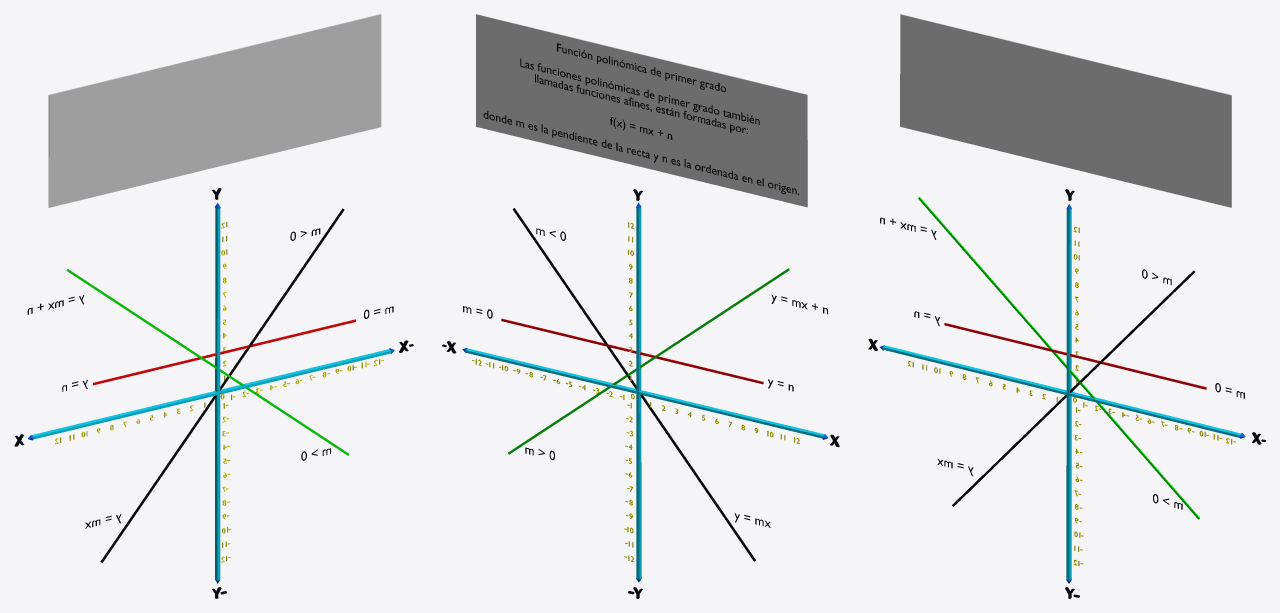
Rendered from f-polinomica-primer-grado.fbx.
3 renders of one model, left to right at view 1: azimuth 30°, elevation 25°; view 2: azimuth 150°, elevation 25°; view 3: azimuth 330°, elevation 25°, orthographic.
Visible parts, largest first — view 1: Cubo.003, Cubo.005, Cubo.006, Cube.001, Cube.002, Cube.003; view 2: Cubo.003, Text.025, Cubo.005, Cubo.006, Cube.001, Cube.002, Cube.003; view 3: Cubo.003, Cubo.005, Cubo.006, Cube.002, Cube.001, Cube.003.
Part boxes in pixels (left/top/right/bottom): Cubo.003: left=48, top=14, right=381, bottom=207; Cubo.005: left=215, top=208, right=220, bottom=580; Cubo.006: left=30, top=349, right=391, bottom=439; Cube.001: left=100, top=208, right=344, bottom=562; Cube.002: left=66, top=269, right=349, bottom=455; Cube.003: left=93, top=319, right=355, bottom=385; Cubo.003: left=476, top=14, right=807, bottom=207; Text.025: left=483, top=43, right=798, bottom=194; Cubo.005: left=636, top=208, right=641, bottom=578; Cubo.006: left=465, top=348, right=824, bottom=438; Cube.001: left=512, top=208, right=755, bottom=561; Cube.002: left=508, top=268, right=789, bottom=454; Cube.003: left=501, top=318, right=763, bottom=384; Cubo.003: left=900, top=14, right=1231, bottom=207; Cubo.005: left=1066, top=209, right=1071, bottom=580; Cubo.006: left=881, top=345, right=1240, bottom=437; Cube.002: left=918, top=197, right=1199, bottom=519; Cube.001: left=952, top=270, right=1194, bottom=506; Cube.003: left=944, top=323, right=1206, bottom=389.
Bounding box in the file's own units: 599 × 785 × 8.65.
